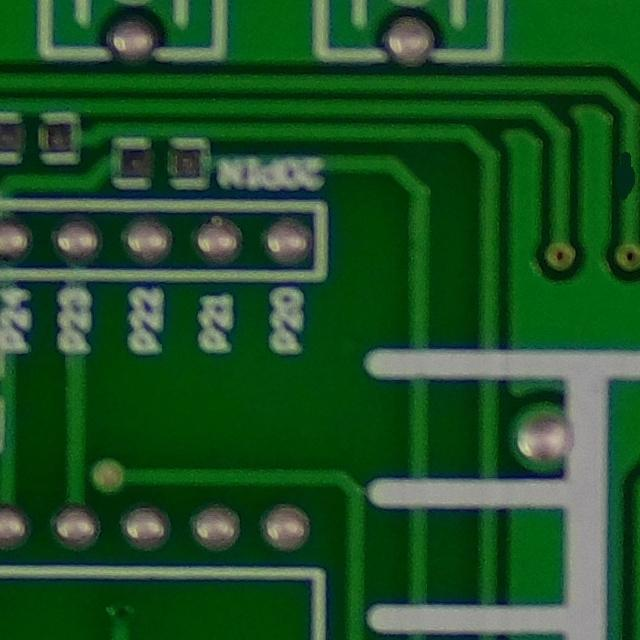mouse_bite: (602, 147, 640, 207)
